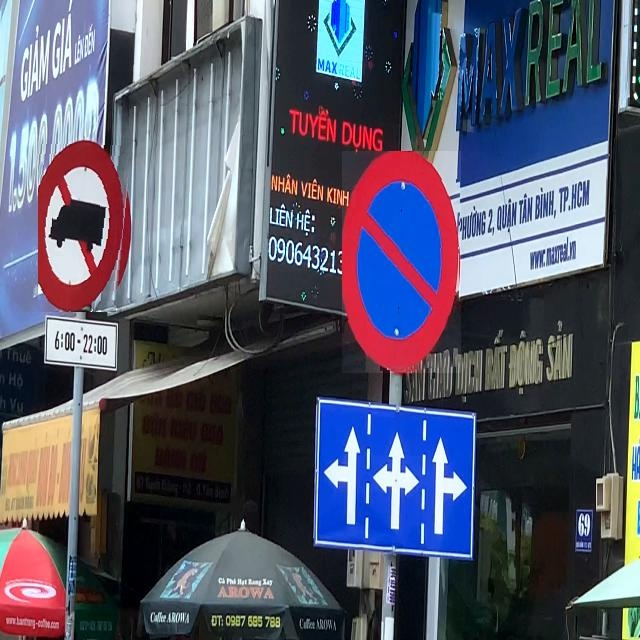bien_cam: (342, 151, 461, 373), (38, 138, 132, 312)
